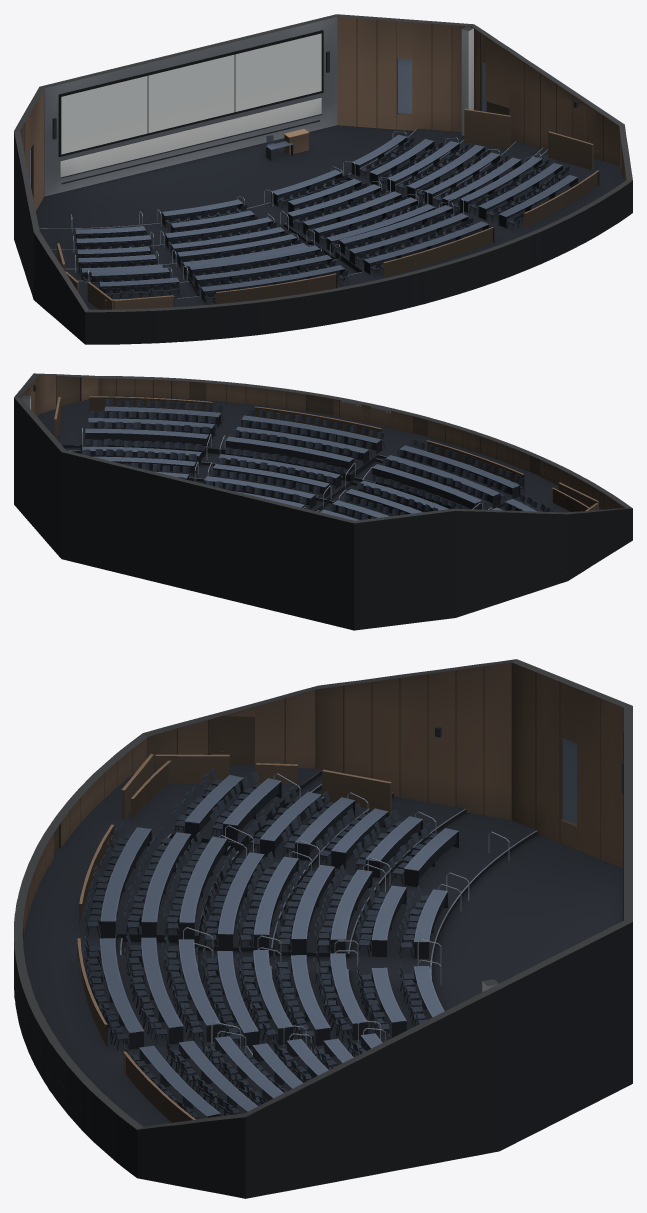
Rendered from hall-lo.glb.
3 renders of one model, top to bottom at view 1: azimuth 30°, elevation 25°; view 2: azimuth 150°, elevation 25°; view 3: azimuth 270°, elevation 25°, orthographic. The views are drawn at different scales.
Parts seen in each view (by area): view 1: hall; view 2: hall; view 3: hall.
Part boxes in pixels (box(x1,y1,x2,y2)): hall: box(14, 14, 632, 344); hall: box(14, 373, 632, 630); hall: box(14, 659, 632, 1198).
Size of the model in its own units: 38.69 by 7 by 24.25.
